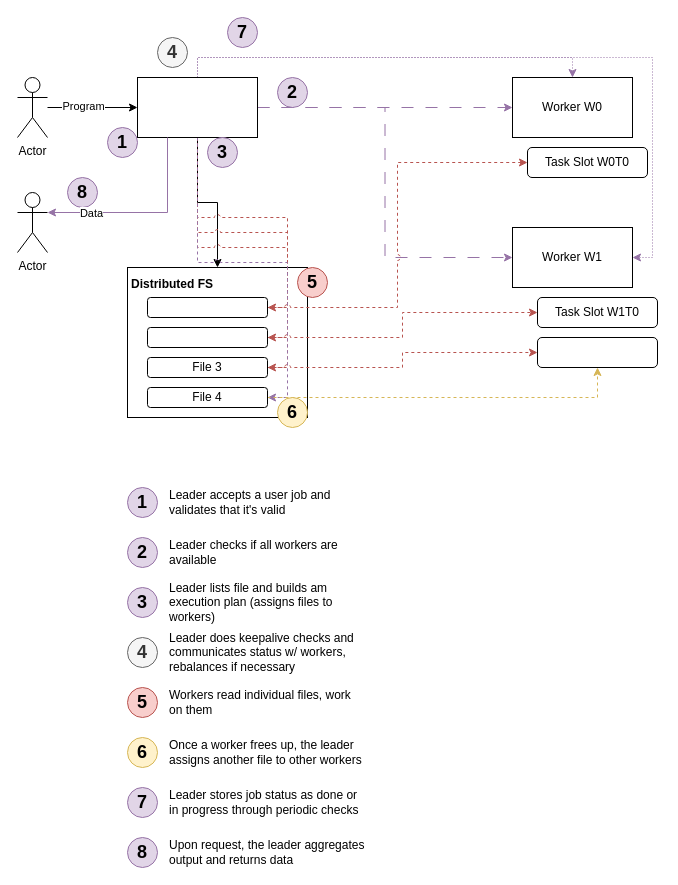
The diagram is 678 pixels wide and 885 high, and some of its shapes have lost their labels. Each missing label, with the centre of its shape:
"File 1" belongs at [207,307].
"File 2" belongs at [207,337].
"Leader" belongs at [197,107].
"Task Slot W1T1" belongs at [597,352].
